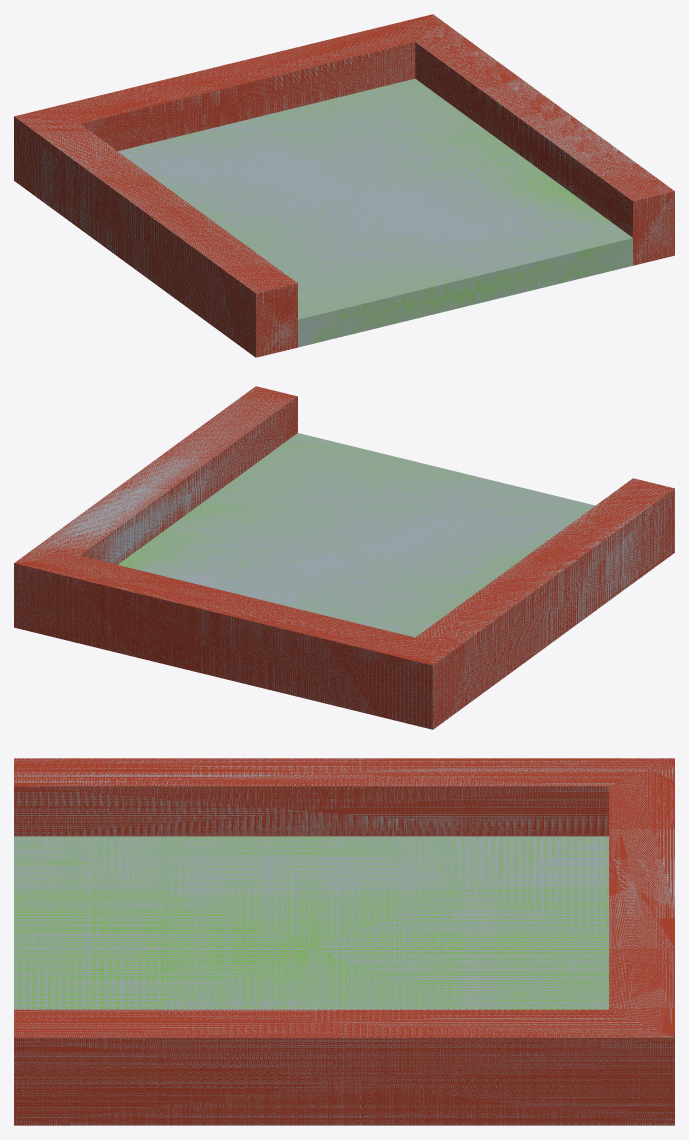
File: End_01.fbx
3 views of the same model, one above another, from view 1: azimuth 30°, elevation 25°; view 2: azimuth 150°, elevation 25°; view 3: azimuth 270°, elevation 25° (orthographic). The views are drawn at different scales.
Parts seen in each view (by area): view 1: Mesh1_End Model; view 2: Mesh1_End Model; view 3: Mesh1_End Model.
Part boxes in pixels (bbox=[...]): Mesh1_End Model: bbox=[14, 14, 674, 357]; Mesh1_End Model: bbox=[14, 386, 674, 729]; Mesh1_End Model: bbox=[14, 758, 674, 1125].
Size of the model in its own units: 3 by 0.44 by 3.
